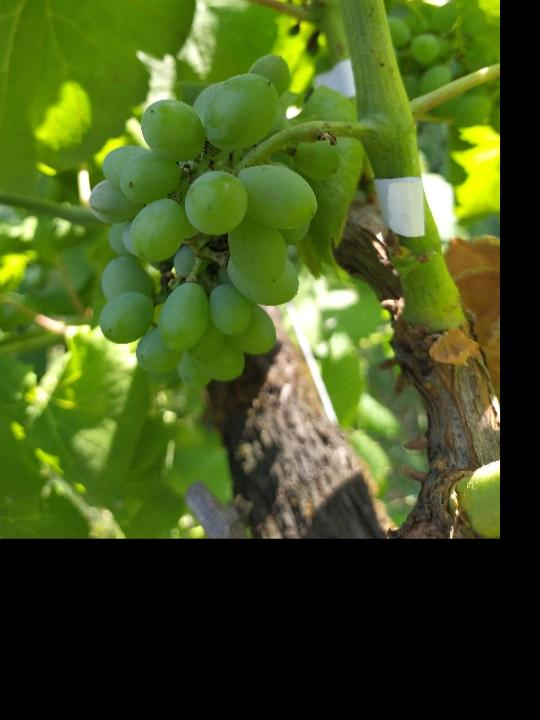grape: (79, 51, 338, 392)
